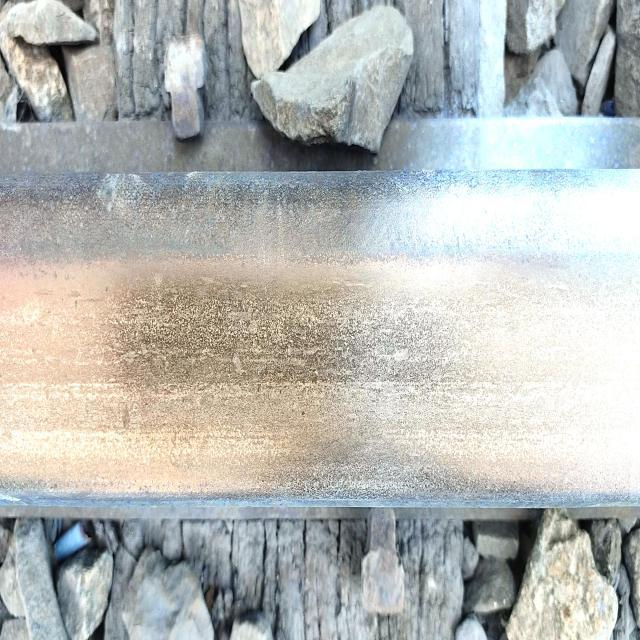Good Fasteners: (361, 509, 404, 615), (165, 34, 204, 139)
